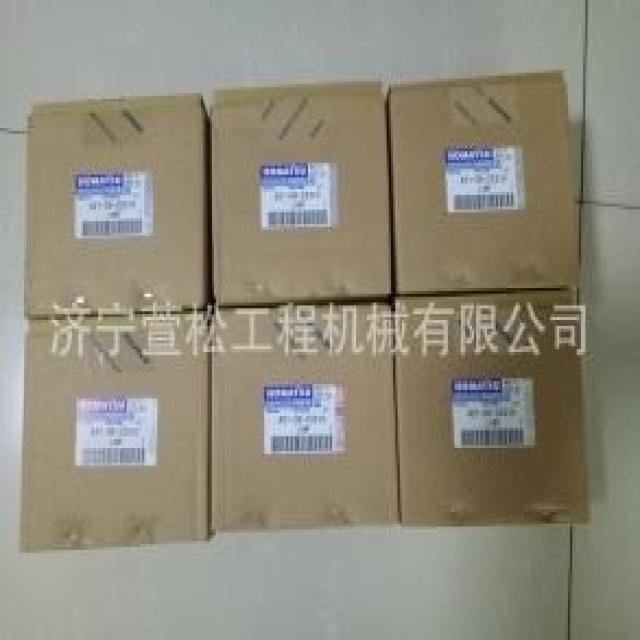box: (394, 288, 589, 528), (19, 311, 209, 553), (385, 69, 579, 294), (210, 303, 398, 532), (23, 96, 211, 321), (212, 82, 395, 301)
